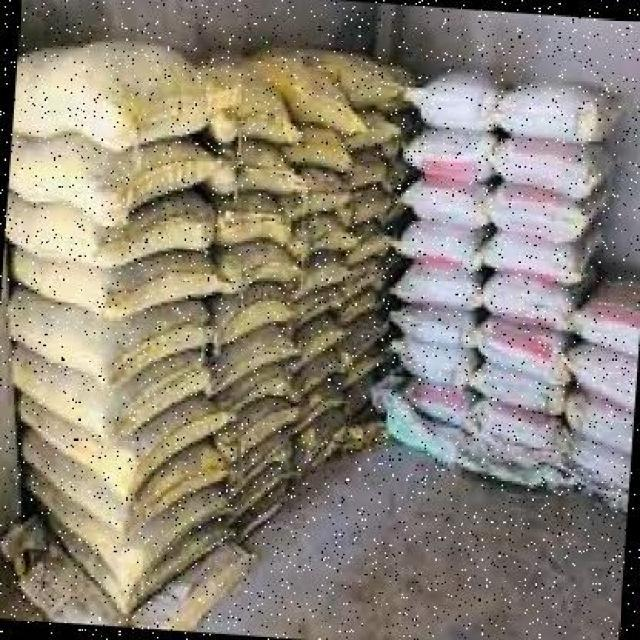gunny_bag: (119, 392, 240, 506), (136, 540, 260, 632), (125, 489, 229, 594), (105, 296, 214, 395), (108, 345, 208, 448), (113, 139, 221, 226), (123, 523, 225, 614), (103, 251, 232, 320), (111, 72, 215, 152), (129, 443, 229, 526), (103, 205, 213, 274), (491, 140, 599, 207), (478, 320, 577, 392), (208, 330, 296, 400), (470, 367, 572, 427), (480, 278, 583, 336), (408, 125, 502, 186), (481, 233, 581, 290), (205, 402, 291, 468), (390, 261, 484, 319), (474, 398, 564, 458), (496, 93, 596, 146), (394, 336, 477, 399), (567, 341, 638, 412), (213, 287, 293, 349), (214, 191, 295, 251), (290, 271, 371, 331), (213, 87, 299, 140), (409, 84, 502, 133), (229, 478, 297, 544), (566, 302, 640, 362), (561, 398, 634, 458), (288, 78, 366, 134), (220, 432, 286, 497), (220, 142, 296, 198), (394, 308, 480, 357), (402, 184, 493, 230), (400, 222, 485, 270), (224, 460, 289, 522), (286, 346, 353, 406), (214, 365, 289, 418), (564, 430, 631, 488), (217, 246, 304, 289), (294, 253, 367, 302), (405, 380, 471, 433), (291, 380, 344, 442), (292, 320, 347, 378), (291, 413, 341, 476), (282, 176, 349, 221), (283, 217, 351, 260), (291, 130, 352, 176), (350, 110, 398, 158), (343, 68, 402, 107), (342, 150, 390, 197), (339, 188, 391, 231), (341, 351, 390, 393), (346, 317, 392, 357), (349, 225, 390, 267), (340, 285, 378, 327), (342, 379, 373, 421), (364, 252, 399, 286)
